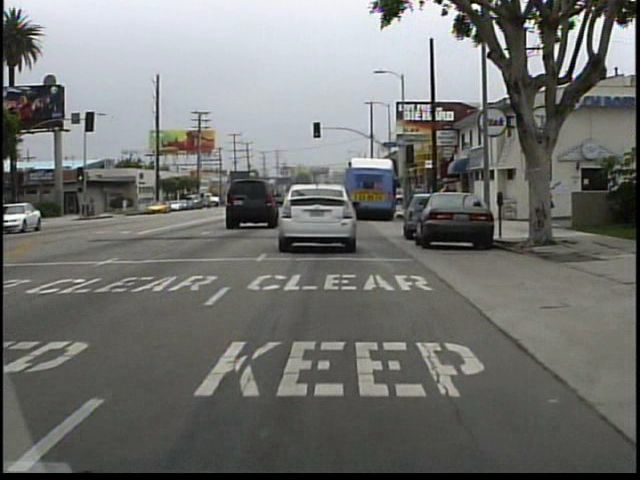person: (525, 175, 543, 228), (535, 177, 552, 233), (412, 180, 428, 195), (121, 196, 132, 215)
